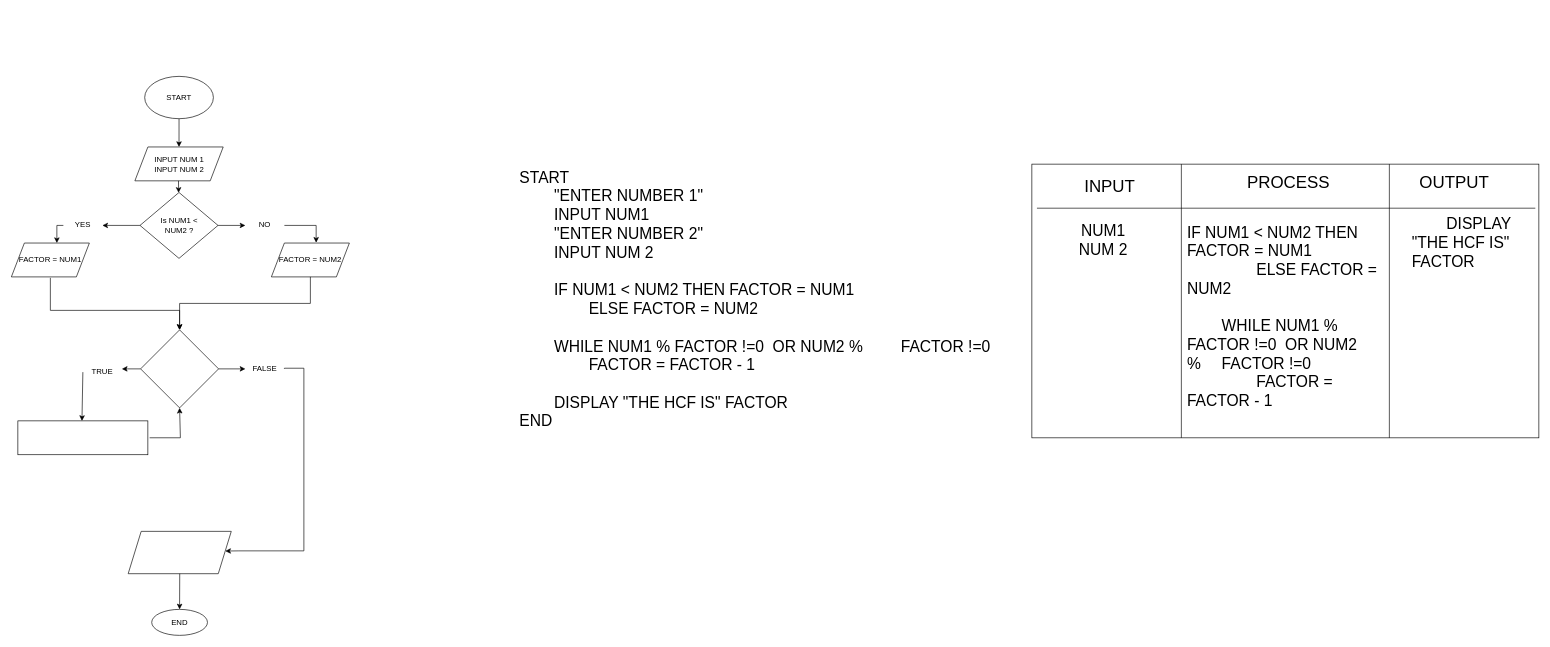
This 1550x647 diagram has some shape labels left out. The shapes that lost their labels are listed below. From the top down, each one's centre as x and y in pixels, then its label:
(179,368): FACTOR !=0 OR FACTOR !=0
(82,437): FACTOR = FACTOR - 1
(179,552): "The highest common factor is ", FACTOR
